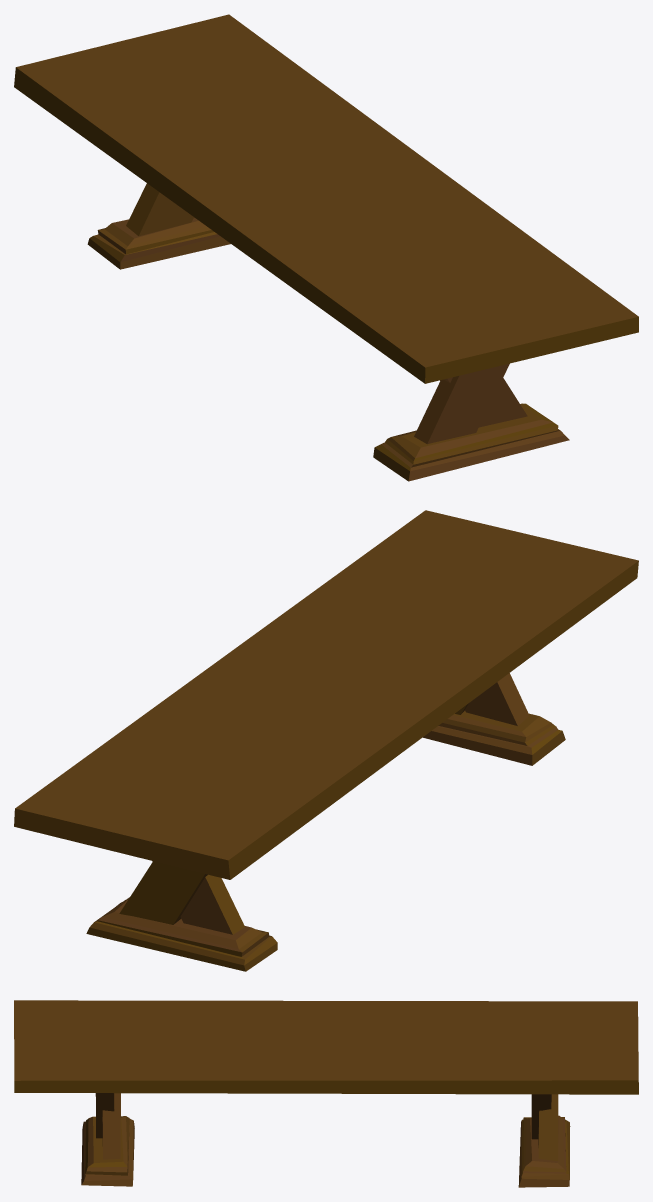
File: syn_Bench.glb
3 views of the same model, one above another, from view 1: azimuth 30°, elevation 25°; view 2: azimuth 150°, elevation 25°; view 3: azimuth 270°, elevation 25° (orthographic). The views are drawn at different scales.
Visible parts, largest first — view 1: Bench; view 2: Bench; view 3: Bench.
Boxes of the visible parts, x1,y1,x2,y2 form: Bench: (14,14,638,481); Bench: (14,510,638,971); Bench: (14,1000,638,1187).
Size of the model in its own units: 0.608 by 0.4153 by 2.
